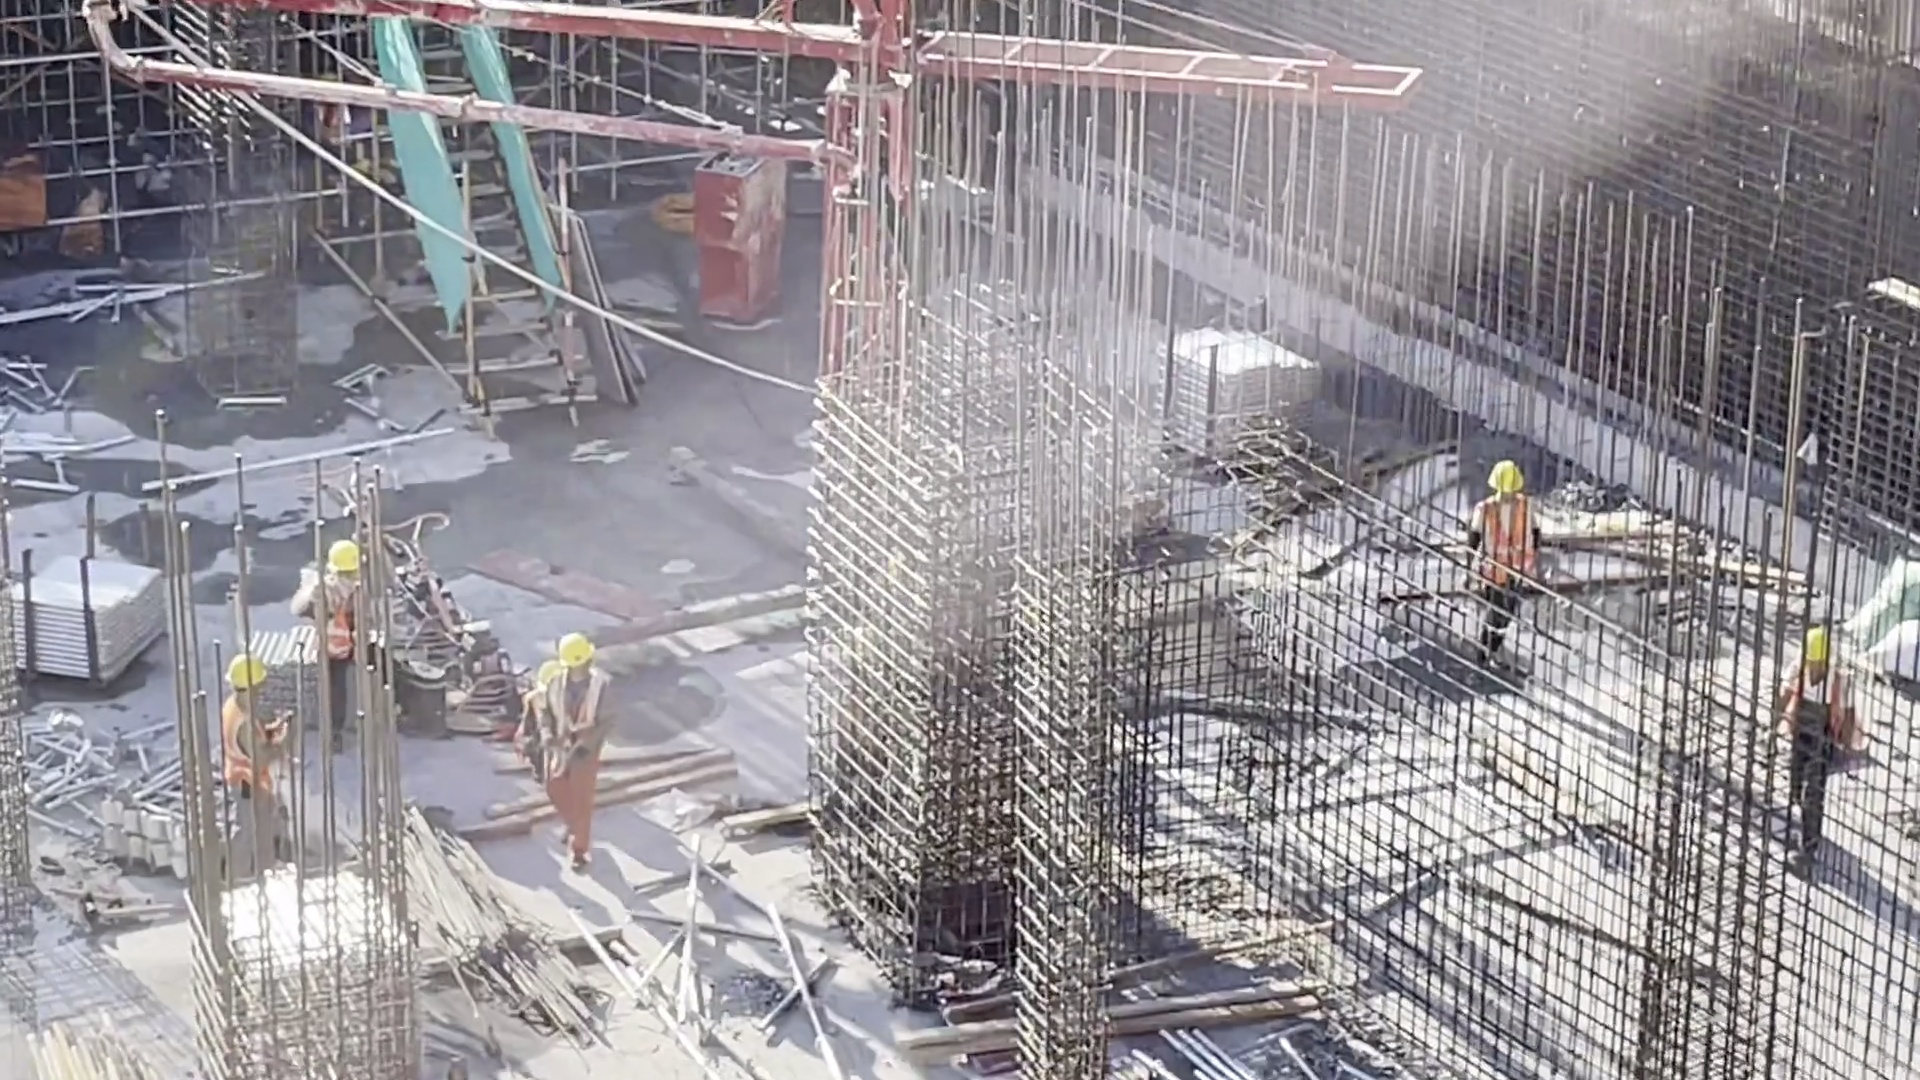helmet: (223, 650, 270, 687), (1803, 627, 1837, 668), (325, 541, 360, 579), (1492, 463, 1529, 497), (563, 635, 599, 668)
person: (537, 619, 622, 863), (211, 646, 303, 842), (315, 537, 395, 743), (1792, 615, 1862, 831), (1469, 465, 1544, 665), (522, 649, 566, 767)
vest: (313, 584, 384, 683), (215, 698, 284, 788), (538, 670, 604, 760), (1801, 663, 1860, 753), (1481, 505, 1531, 594)
